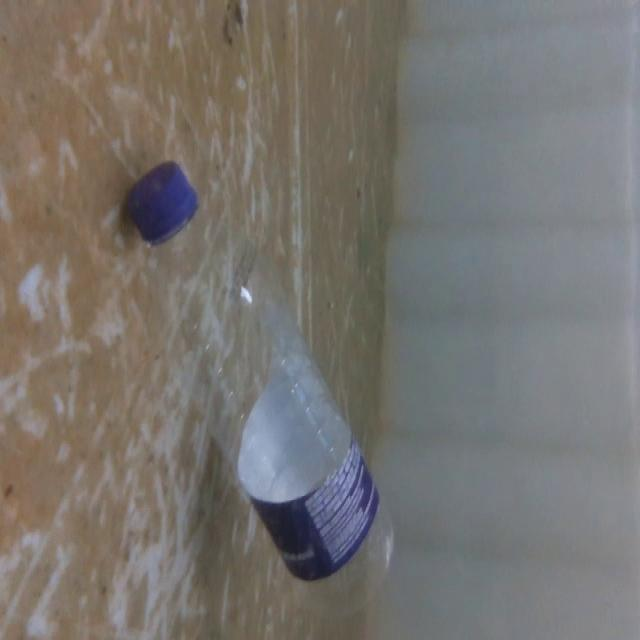plastic bottle: (110, 148, 399, 620)
